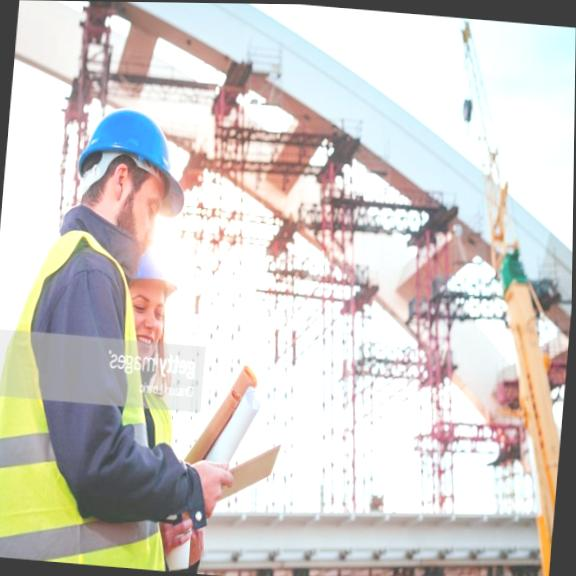safety_vest: (0, 221, 200, 572), (139, 386, 178, 446)
